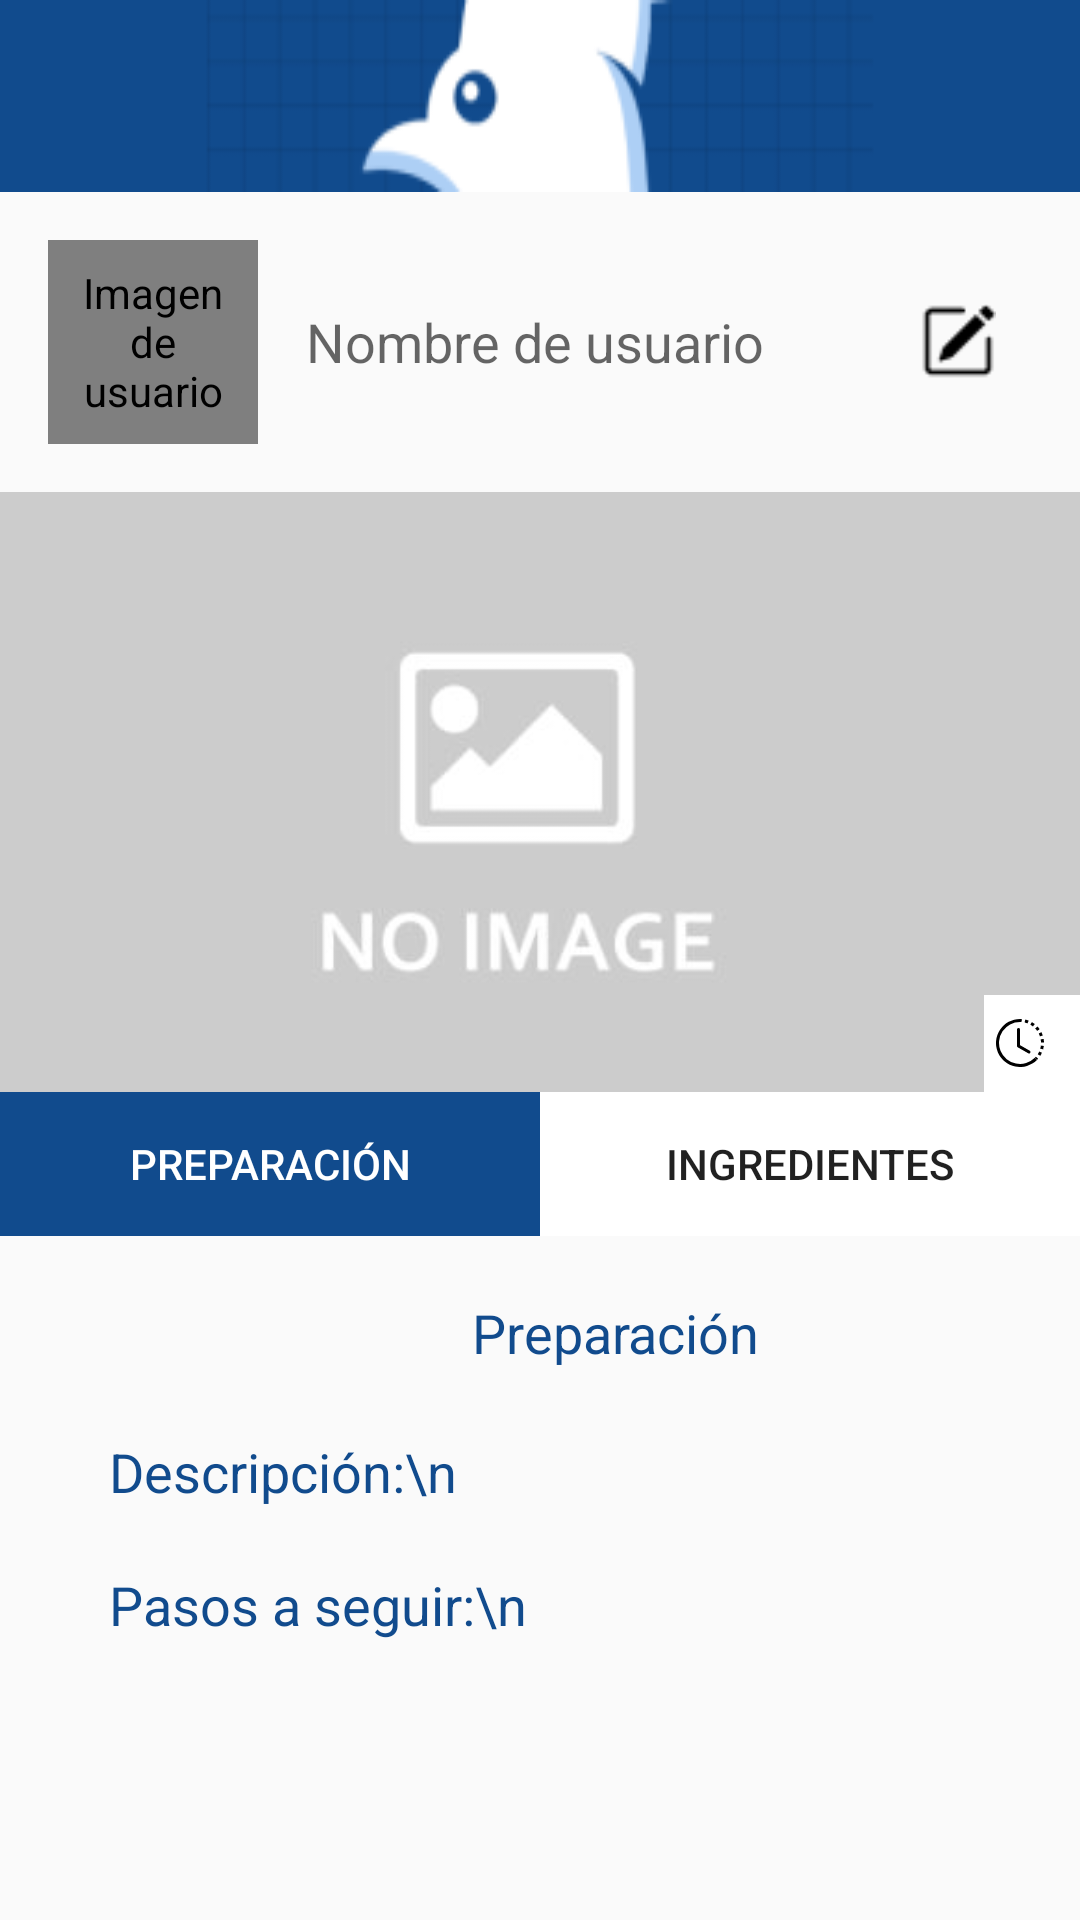

Named icons in this screenshot (1080×1920) and their centers, point (x, y):
pencilsquare: point (959, 341)
